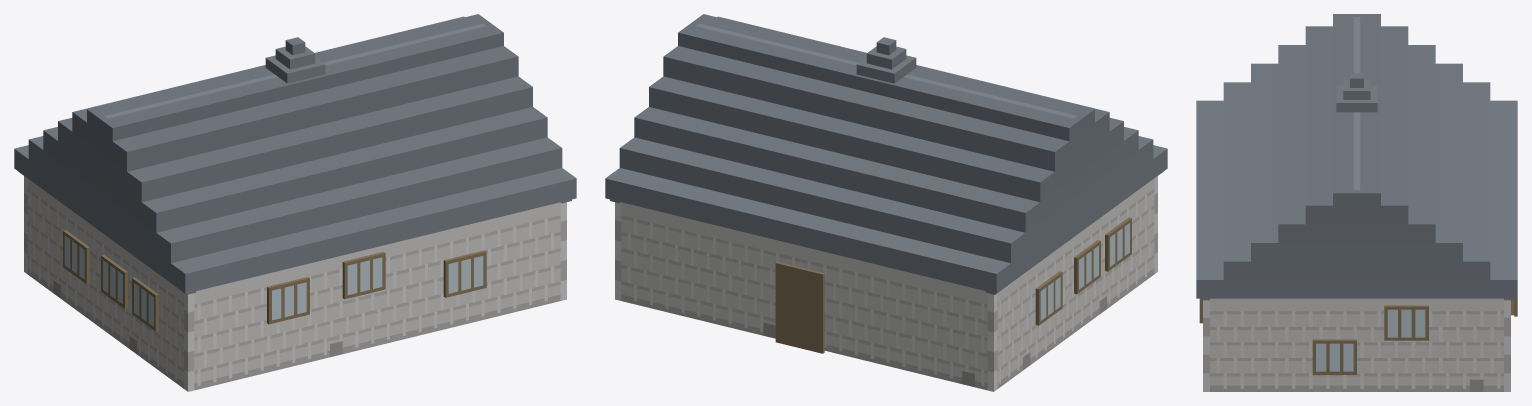
Rendered from templo_01.glb.
3 views of the same model, side by side, from view 1: azimuth 30°, elevation 25°; view 2: azimuth 150°, elevation 25°; view 3: azimuth 270°, elevation 25° (orthographic). The views are drawn at different scales.
Parts seen in each view (by area): view 1: templo_01; view 2: templo_01; view 3: templo_01.
Part boxes in pixels (left/top/right/bottom): templo_01: left=14, top=14, right=576, bottom=391; templo_01: left=605, top=14, right=1167, bottom=391; templo_01: left=1196, top=14, right=1517, bottom=391.
Bounding box in the file's own units: 12.4 × 7.4 × 9.4.
